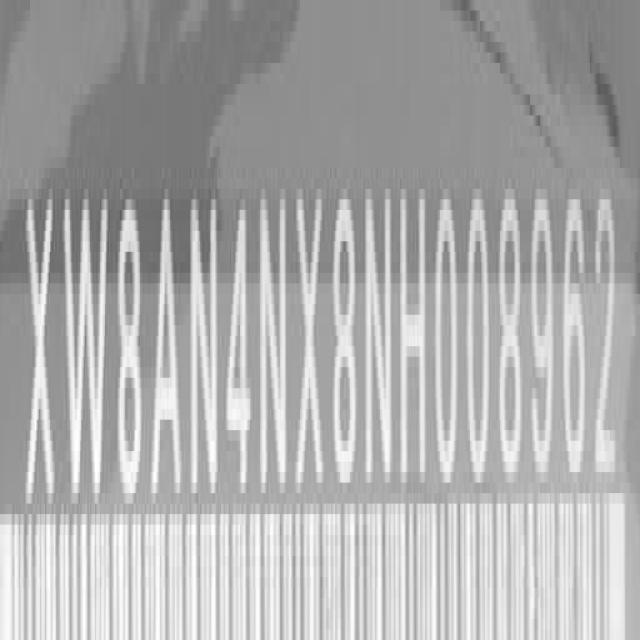0: (432, 178, 462, 490), (464, 187, 492, 492)
2: (594, 195, 622, 489)
4: (225, 183, 253, 507)
6: (560, 187, 587, 487)
8: (117, 191, 145, 516), (333, 182, 359, 496), (498, 179, 524, 482)
9: (530, 191, 556, 488)
A: (148, 180, 182, 516)
H: (398, 175, 426, 497)
N: (258, 175, 292, 504), (189, 187, 220, 509), (364, 171, 394, 501)
W: (62, 178, 112, 519)
X: (297, 176, 329, 502), (26, 186, 56, 527)
